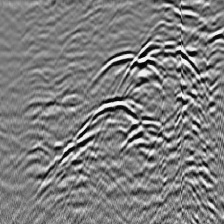cavities: (33, 40, 212, 191)
